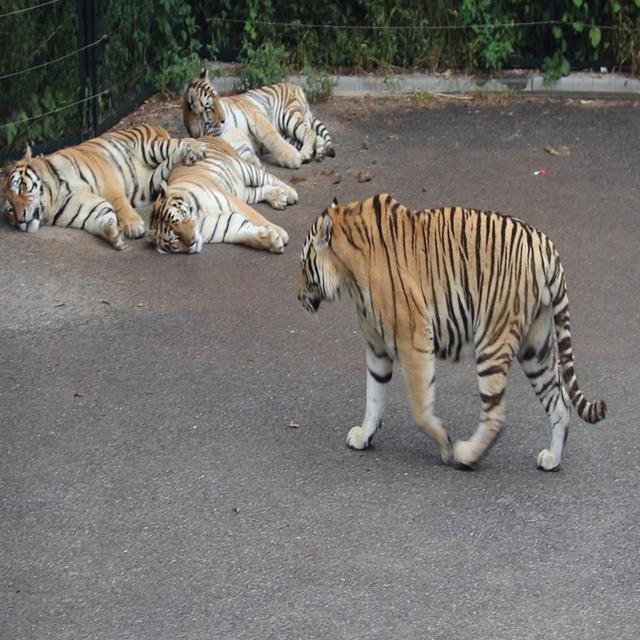tiger: (296, 191, 607, 472), (0, 121, 206, 251), (146, 134, 298, 255), (180, 67, 302, 169), (227, 80, 335, 163)
